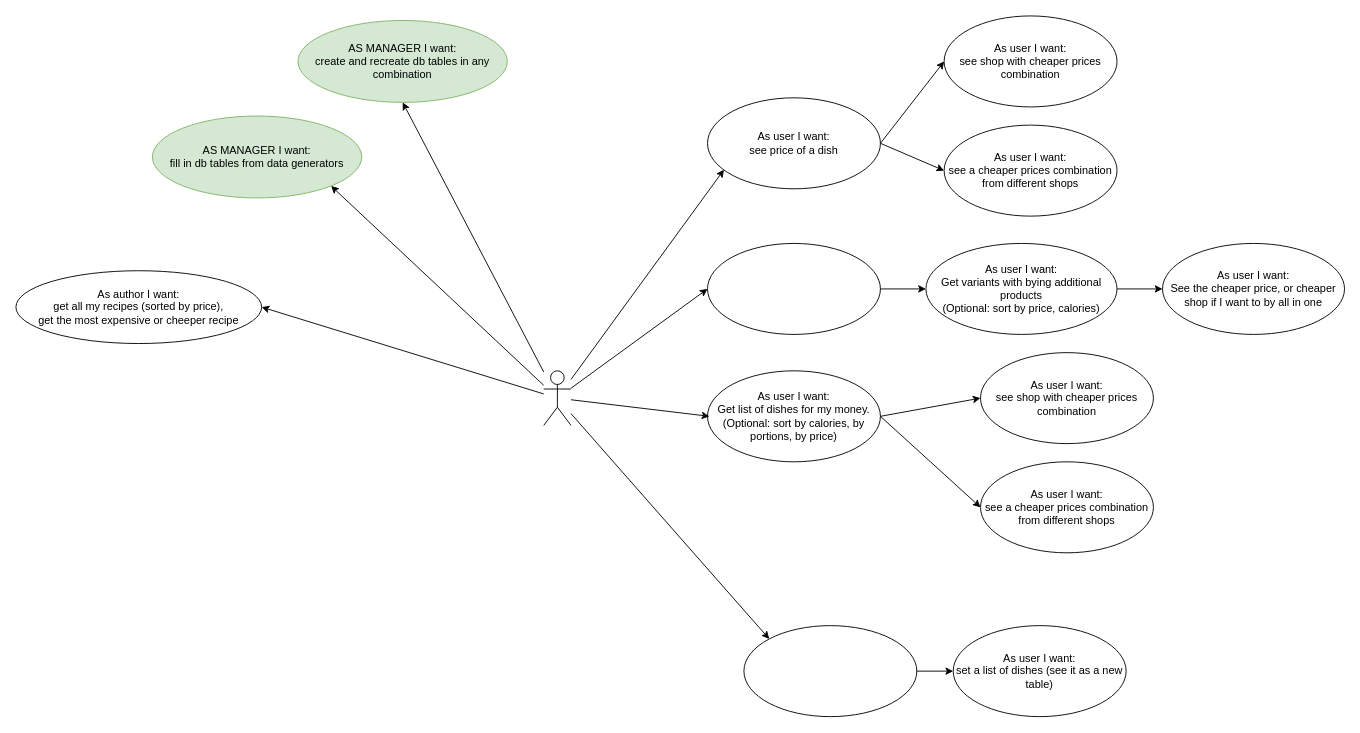
Image size: 1360x733. Some labels were removed from this diagram. Here are the shapes that lost their labels. From the top down, the centre of each, then its label:
(793,288): As user I want: Get list of dishes for my products. (Optional: sort by calories)
(557,397): Actor
(830,671): As user I want: to plane party.
